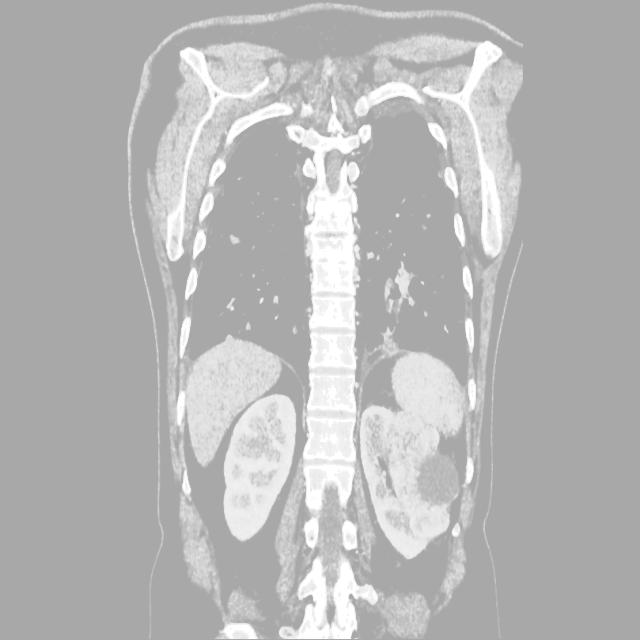TUMOR: (73, 315, 590, 545)
